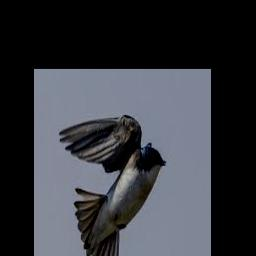Swallow: (59, 115, 166, 256)
